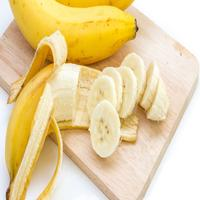banane: (8, 64, 111, 197), (1, 1, 149, 63)
